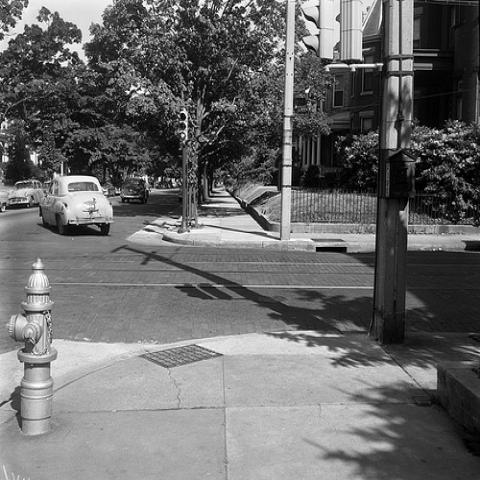car: (39, 175, 114, 235), (8, 180, 44, 207), (120, 174, 148, 204)
